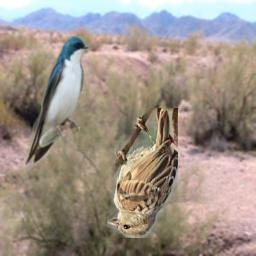Sparrow: (107, 108, 178, 238)
Swallow: (25, 36, 89, 166)
